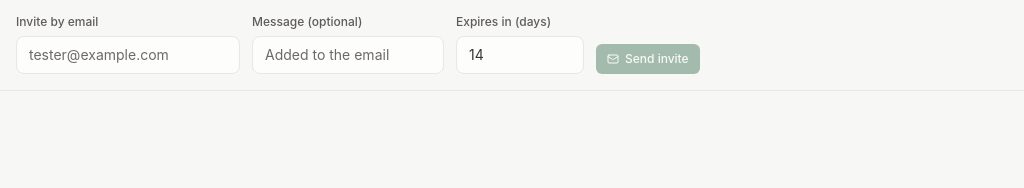
Test: SendInviteForm › shows the link after sending
Type "sam@example.com" into the field labelled "Invite by email".
click(128, 55); type("sam@example.com")  # box [16,36,240,74]
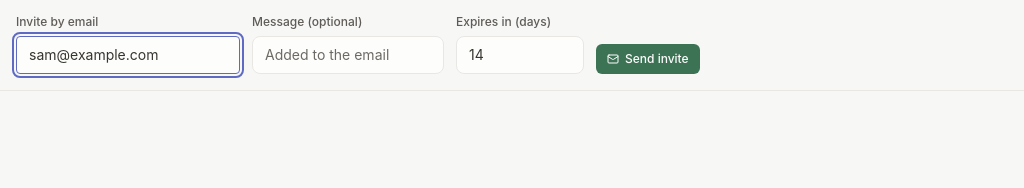
Click the button "Send invite".
click(648, 59)  # box [596,44,700,74]
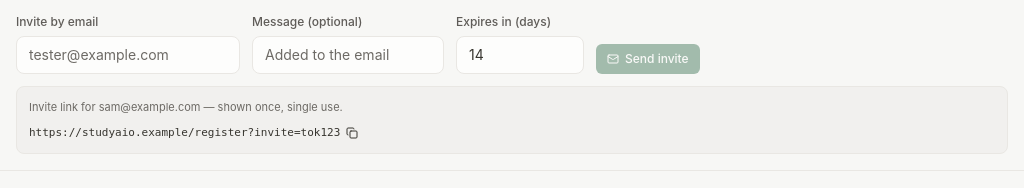
Check: the text "https://studyaio.example/register?invite=tok123" is shown, box [29,124,340,141]
